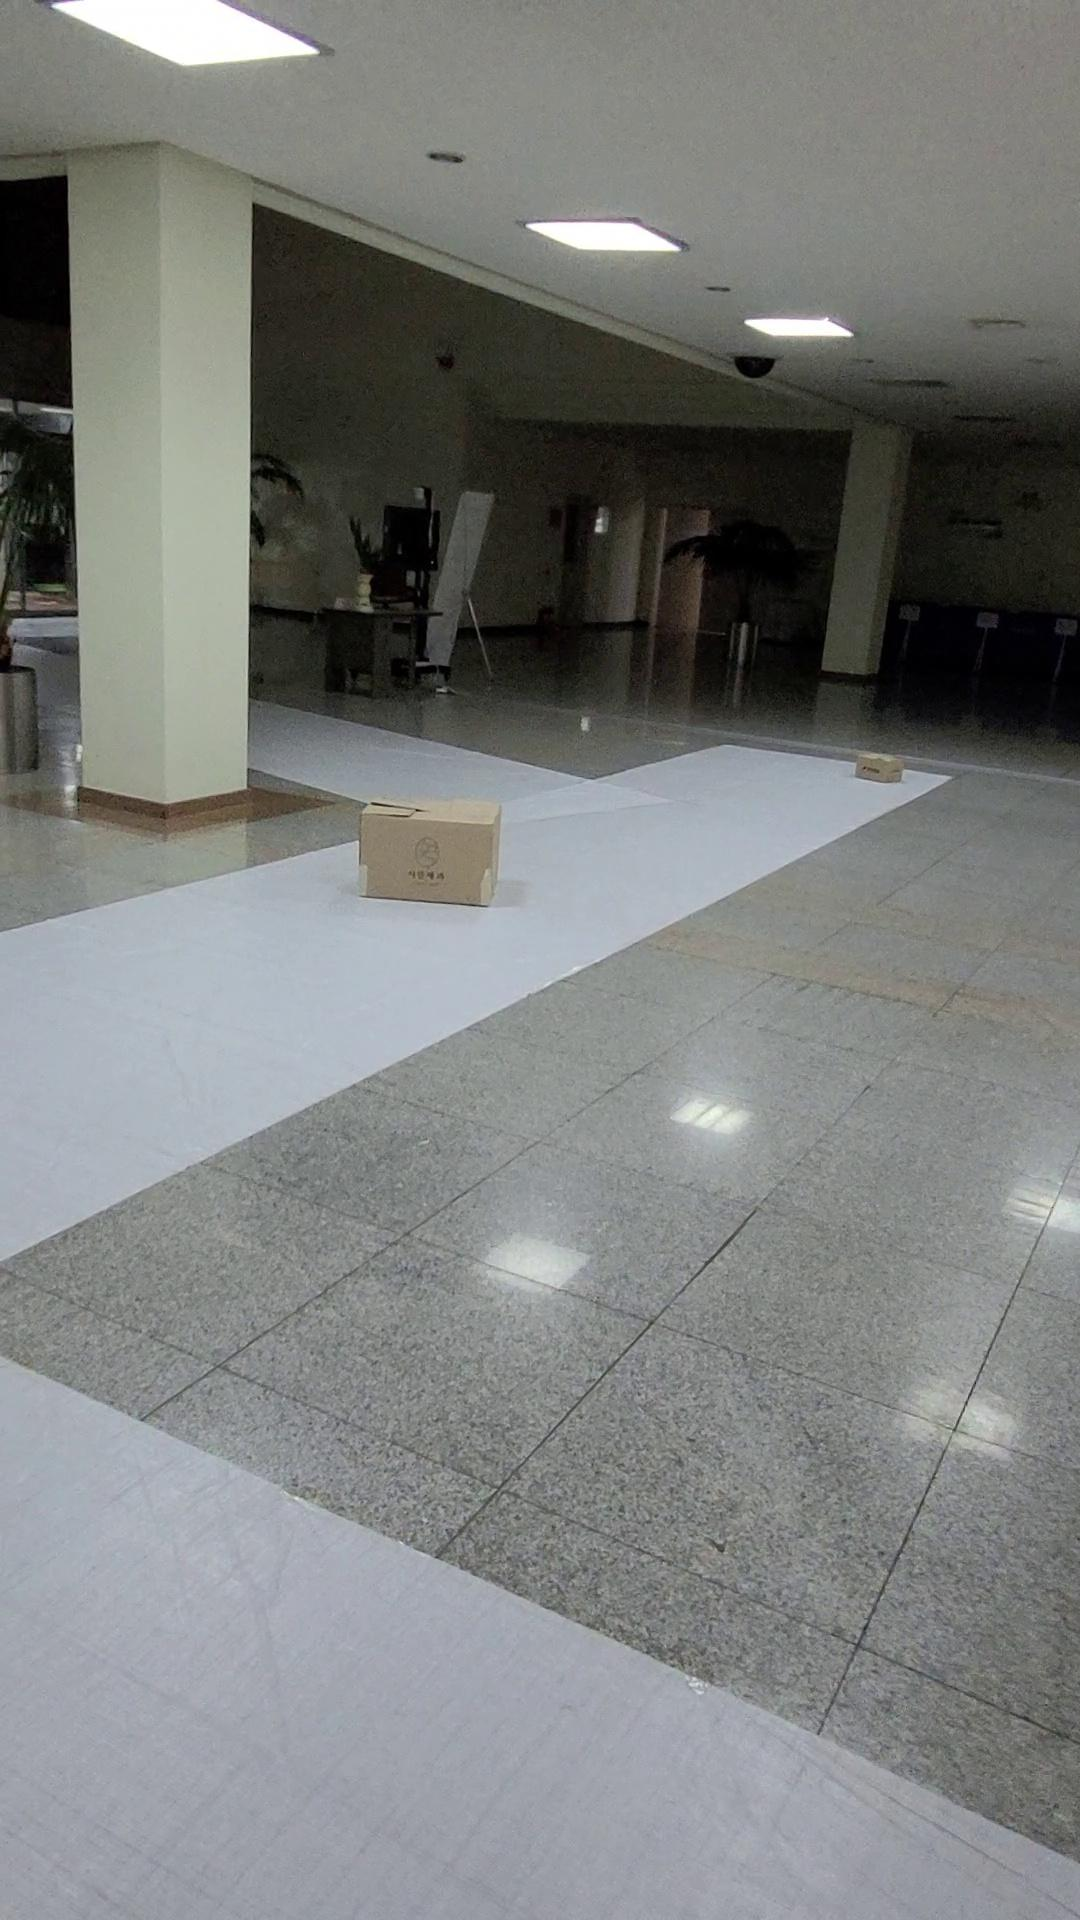Box: (338, 778, 527, 935), (823, 735, 924, 804)
